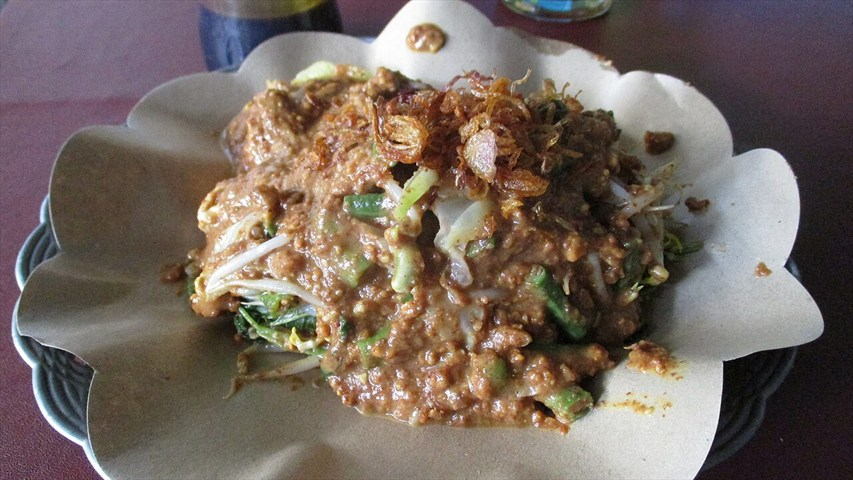Gado-Gado: (173, 43, 734, 425)
